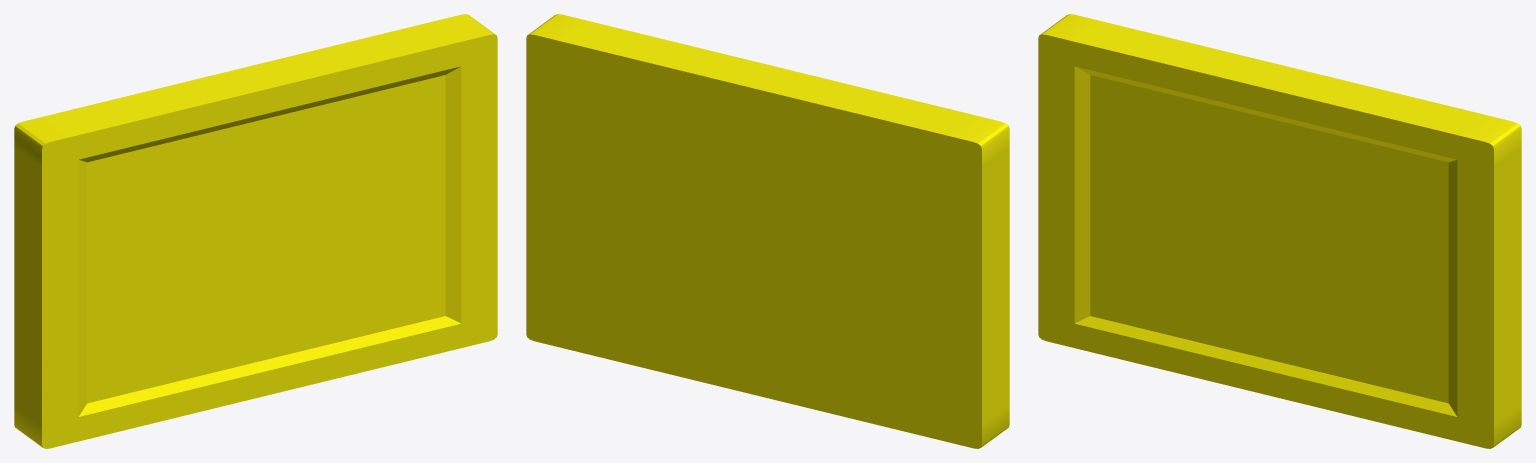
The model's file is umgebung_bilderrahmen_wand_klein_low.FBX.
3 views of the same model, side by side, from view 1: azimuth 30°, elevation 25°; view 2: azimuth 150°, elevation 25°; view 3: azimuth 330°, elevation 25° (orthographic).
Visible parts, largest first — view 1: o_bilderrahmen_klein_low; view 2: o_bilderrahmen_klein_low; view 3: o_bilderrahmen_klein_low.
Boxes of the visible parts, x1=… form: o_bilderrahmen_klein_low: x1=14, y1=14, x2=497, y2=448; o_bilderrahmen_klein_low: x1=526, y1=14, x2=1009, y2=448; o_bilderrahmen_klein_low: x1=1038, y1=14, x2=1521, y2=448.
Bounding box in the file's own units: 88.37 × 9.36 × 56.78.
